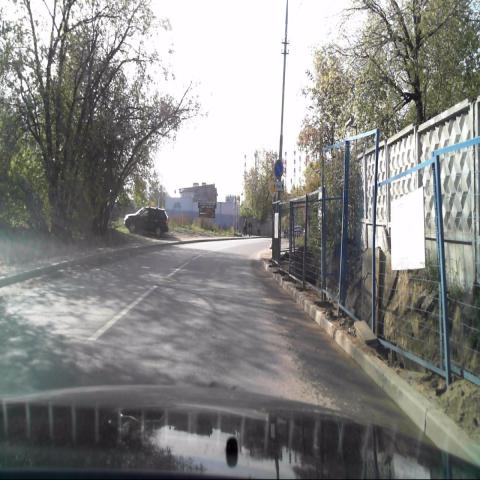3_28: (273, 158, 284, 179)
